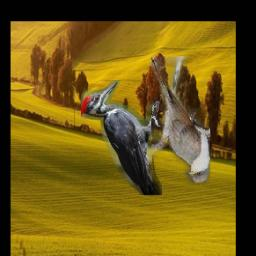Cuckoo: (150, 57, 209, 184)
Woodpecker: (81, 81, 162, 196)
